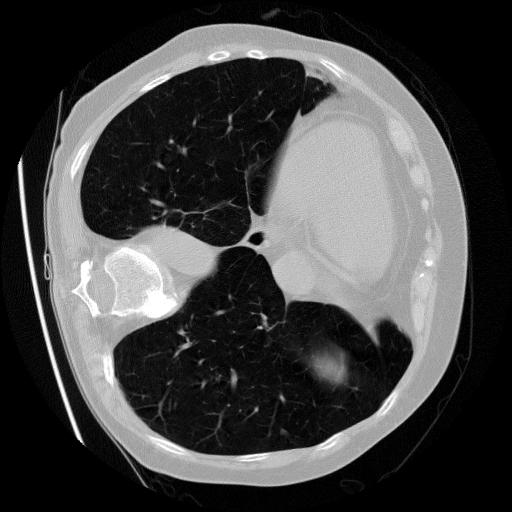nodule: (278, 426, 293, 441)
